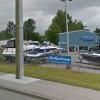Boat: (4, 35, 74, 63)
